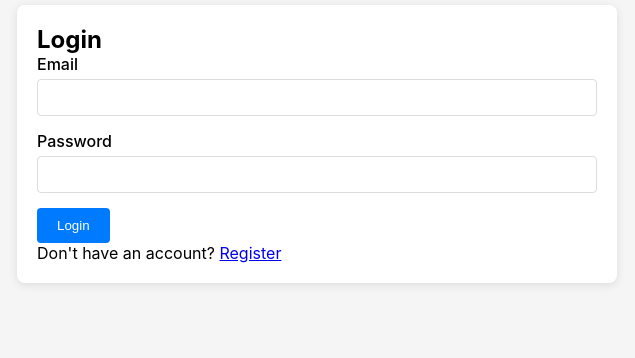
Test: Login Component › displays error message on login failure
Type "wrong@example.com" into the field labelled "Email".
click(317, 98); type("wrong@example.com")  # box [37,79,597,116]
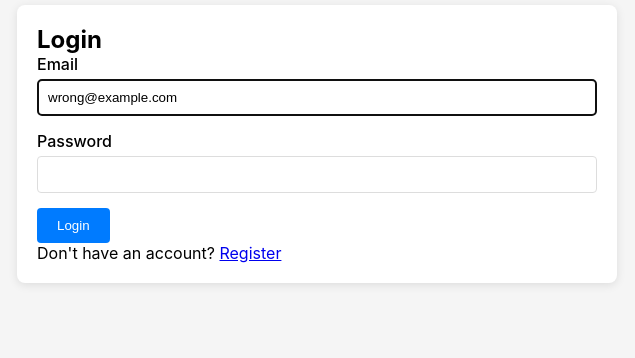
Type "wrongpass" into the password field labelled "Password".
click(317, 174); type("wrongpass")  # box [37,156,597,193]
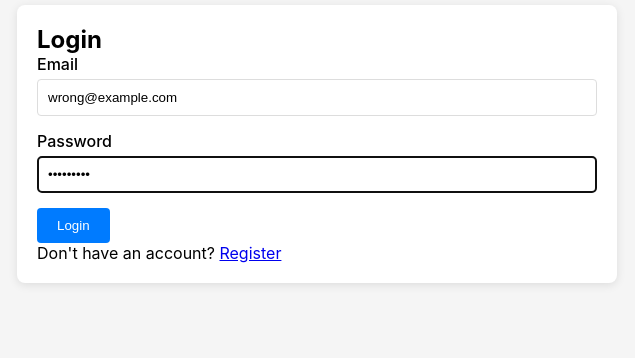
Click the button "Login".
click(73, 226)  # box [37,208,110,243]
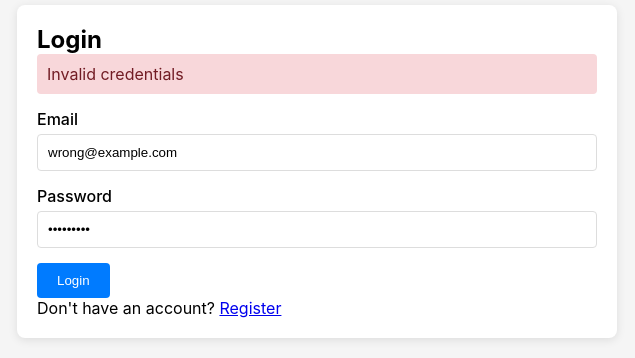
Check: the message reads "Invalid credentials", box [47,64,184,84]
